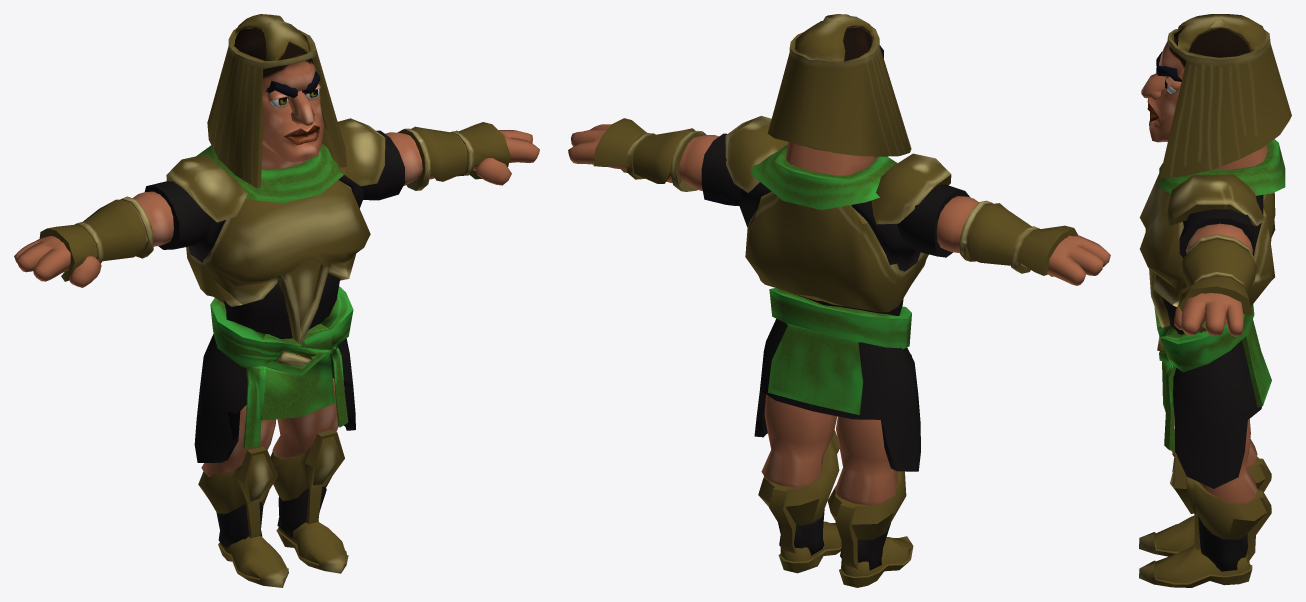
Rendered from remetch-warrior-fixed.glb.
3 renders of one model, left to right at view 1: azimuth 30°, elevation 25°; view 2: azimuth 150°, elevation 25°; view 3: azimuth 270°, elevation 25°, orthographic. The views are drawn at different scales.
Visible parts, largest first — view 1: armor, belt, cape, close, Head, bracer1, bracer2, knee_pad1, knee_pad2, collar, shoulder_pad1, Shirt (+13 smaller); view 2: cape, armor, belt, close, bracer1, leg2, collar, bracer2, leg1, knee_pad2, shoulder_pad1, knee_pad1 (+13 smaller); view 3: cape, close, armor, belt, bracer2, knee_pad2, Head, shoulder_pad2, foot2, palm2, collar, shin2 (+9 smaller).
Boxes of the visible parts, left/top/right/bottom form: armor: left=186, top=180, right=370, bottom=343; belt: left=210, top=286, right=353, bottom=448; cape: left=207, top=14, right=346, bottom=188; close: left=194, top=334, right=355, bottom=462; Head: left=234, top=27, right=324, bottom=168; bracer1: left=39, top=196, right=153, bottom=281; bracer2: left=398, top=122, right=510, bottom=190; knee_pad1: left=198, top=446, right=278, bottom=538; knee_pad2: left=270, top=429, right=344, bottom=523; collar: left=196, top=144, right=343, bottom=203; shoulder_pad1: left=166, top=154, right=247, bottom=222; Shirt: left=223, top=273, right=340, bottom=338; cape: left=767, top=14, right=911, bottom=156; armor: left=745, top=191, right=928, bottom=312; belt: left=767, top=288, right=911, bottom=415; close: left=754, top=319, right=920, bottom=471; bracer1: left=959, top=200, right=1078, bottom=276; leg2: left=761, top=394, right=837, bottom=487; collar: left=751, top=144, right=897, bottom=210; bracer2: left=593, top=118, right=706, bottom=191; leg1: left=835, top=416, right=897, bottom=505; knee_pad2: left=758, top=430, right=839, bottom=553; shoulder_pad1: left=871, top=153, right=951, bottom=224; knee_pad1: left=827, top=471, right=906, bottom=569; cape: left=1159, top=14, right=1291, bottom=178; close: left=1173, top=340, right=1261, bottom=488; armor: left=1139, top=173, right=1275, bottom=327; belt: left=1154, top=304, right=1271, bottom=450; bracer2: left=1178, top=234, right=1256, bottom=332; knee_pad2: left=1170, top=452, right=1271, bottom=562; Head: left=1147, top=28, right=1267, bottom=169; shoulder_pad2: left=1166, top=174, right=1265, bottom=225; foot2: left=1139, top=544, right=1252, bottom=587; palm2: left=1174, top=293, right=1243, bottom=336; collar: left=1159, top=139, right=1285, bottom=195; shin2: left=1198, top=515, right=1247, bottom=571.
Size of the model in its own units: 20.32 by 20.04 by 5.09.
6 materials, 5 textured.
